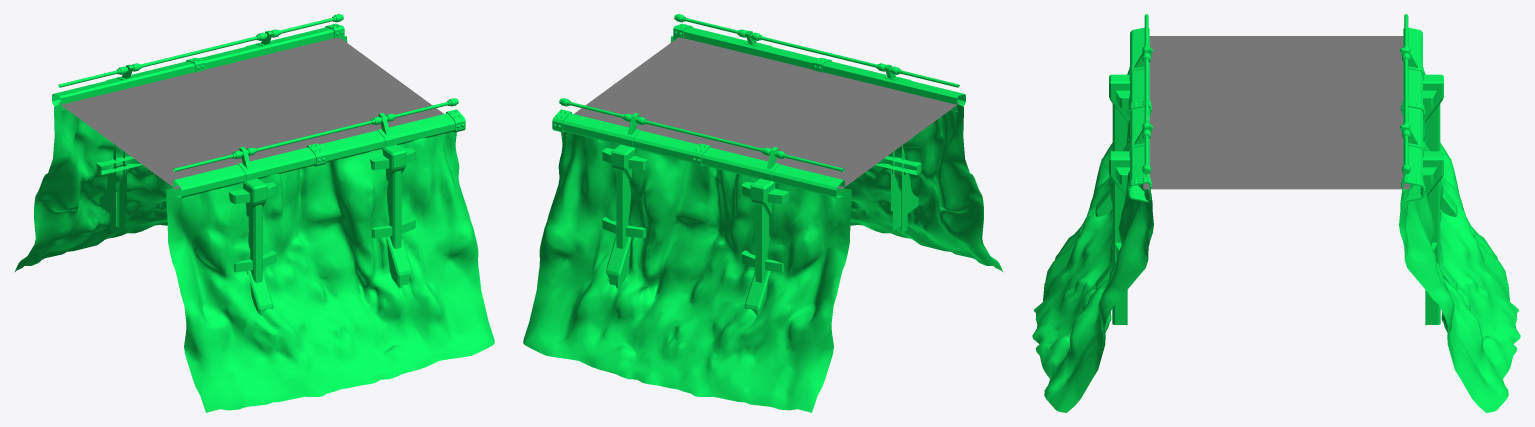
File: Track_03_bot.fbx
The picture shows the model from 3 angles, left to right: view 1: azimuth 30°, elevation 25°; view 2: azimuth 150°, elevation 25°; view 3: azimuth 270°, elevation 25°; orthographic projection. The views are drawn at different scales.
Visible parts, largest first — view 1: Side_Rock_004, Road_004; view 2: Side_Rock_004, Road_004; view 3: Side_Rock_004, Road_004.
Part boxes in pixels (x1,y1,x2,y2): Side_Rock_004: [14, 14, 494, 412]; Road_004: [58, 37, 443, 188]; Side_Rock_004: [523, 14, 1003, 412]; Road_004: [574, 37, 959, 188]; Side_Rock_004: [1032, 14, 1520, 412]; Road_004: [1143, 36, 1409, 189].
Size of what is drawn, in the model's own units: 3159 by 4039 by 2250.
